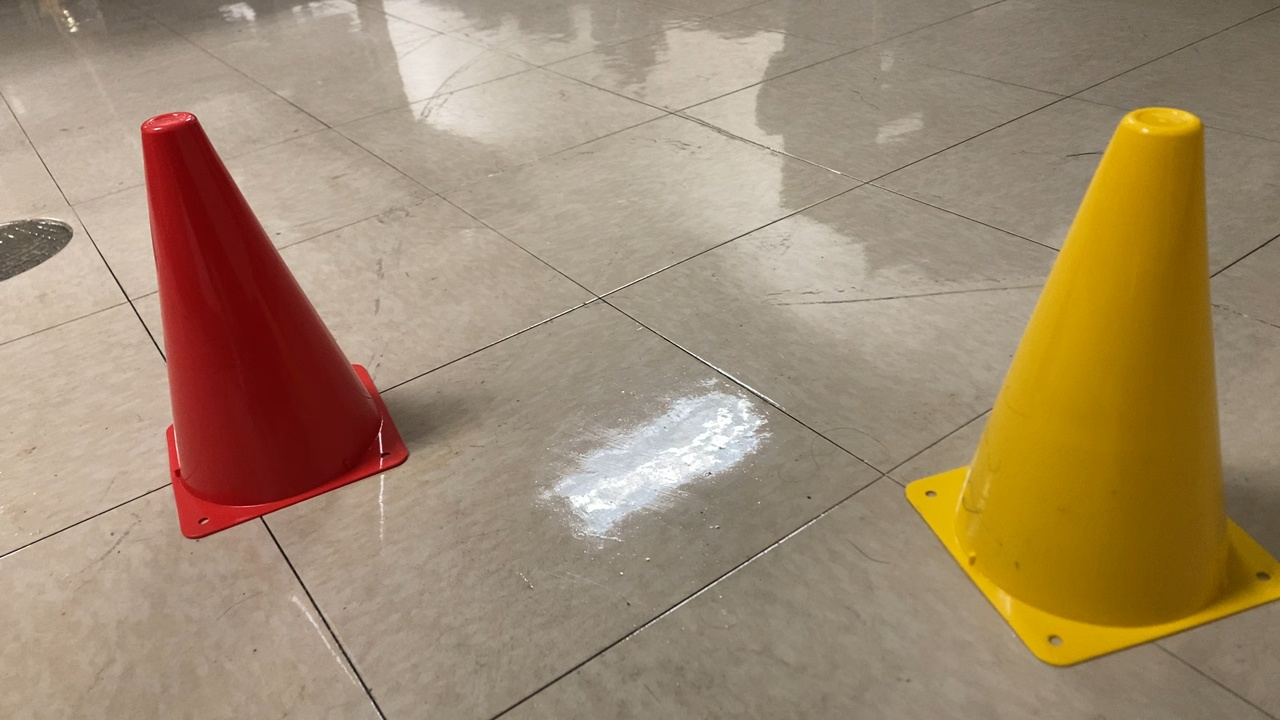red_cone: (121, 103, 429, 548)
yellow_cone: (893, 98, 1280, 673)
